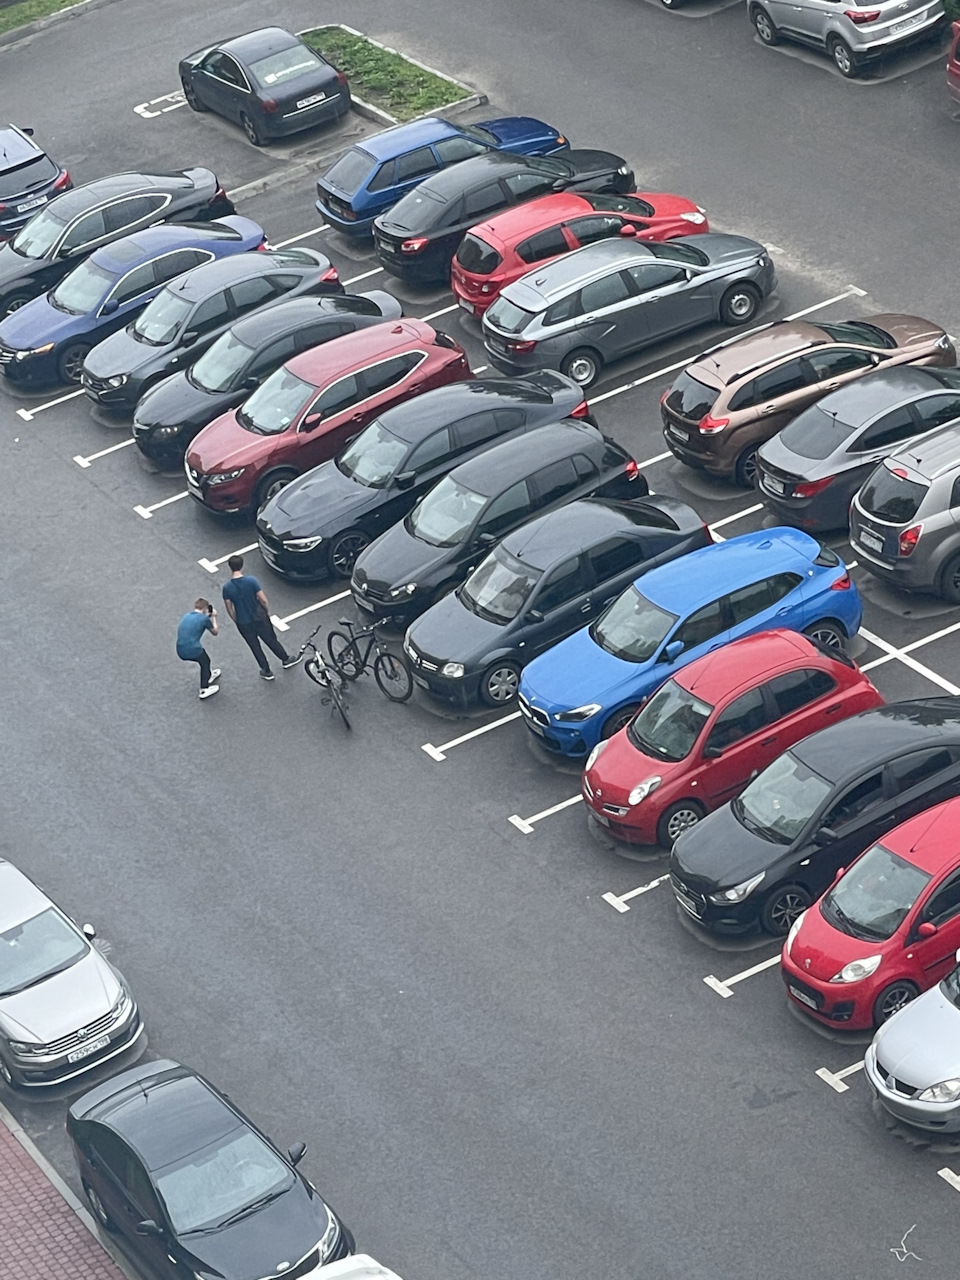Car: (518, 527, 862, 761), (256, 370, 597, 581), (669, 697, 960, 937), (403, 495, 712, 711), (581, 630, 883, 849), (66, 1060, 355, 1280), (349, 421, 650, 629), (184, 319, 472, 518), (659, 314, 957, 488), (131, 291, 404, 471), (0, 214, 269, 390), (481, 233, 776, 390), (81, 247, 343, 416), (781, 796, 960, 1035), (373, 148, 636, 287), (0, 167, 234, 321), (755, 366, 960, 535), (0, 858, 144, 1091), (450, 191, 709, 319), (316, 117, 569, 241), (179, 27, 350, 147), (849, 422, 960, 605), (864, 948, 960, 1138), (748, 0, 946, 78), (0, 125, 73, 242), (295, 1254, 401, 1280), (944, 20, 960, 110), (659, 0, 694, 9)
